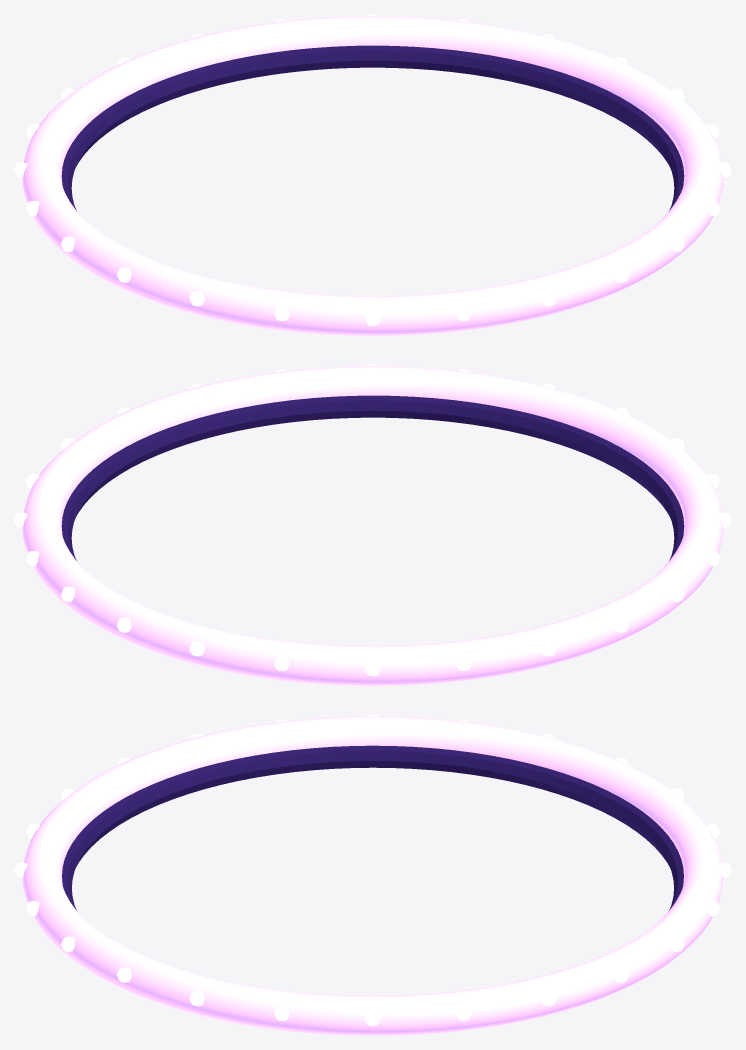
File: hole_rim.glb
3 renders of one model, top to bottom at view 1: azimuth 30°, elevation 25°; view 2: azimuth 150°, elevation 25°; view 3: azimuth 270°, elevation 25°, orthographic.
Parts seen in each view (by area): view 1: hole_rim; view 2: hole_rim; view 3: hole_rim.
Boxes of the visible parts, bbox=[...] form: hole_rim: bbox=[14, 14, 731, 335]; hole_rim: bbox=[14, 364, 731, 685]; hole_rim: bbox=[14, 714, 731, 1035].
Size of the model in its own units: 2.17 by 0.1399 by 2.17.
1 material, 1 textured.
